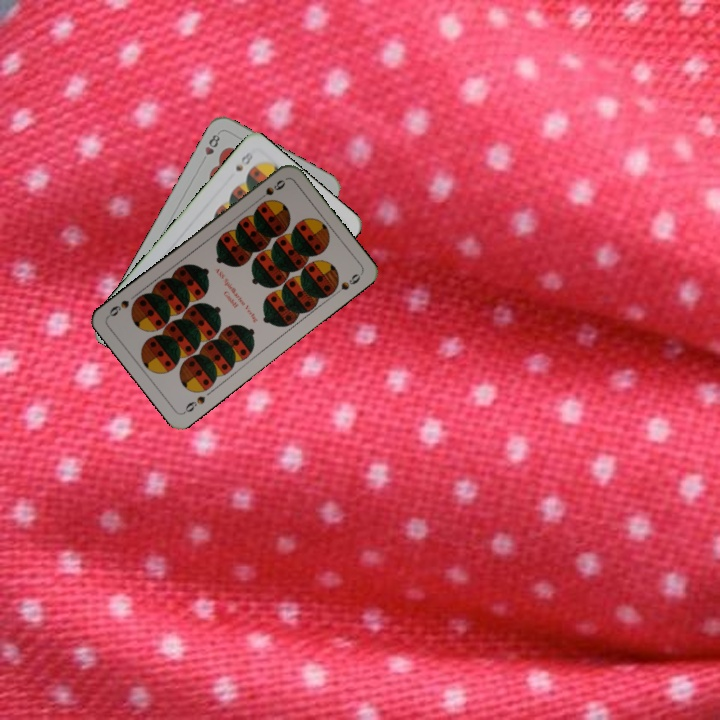H8: (197, 128, 223, 166)
S8: (231, 147, 255, 174)
S9: (253, 175, 288, 204), (180, 392, 208, 416)
